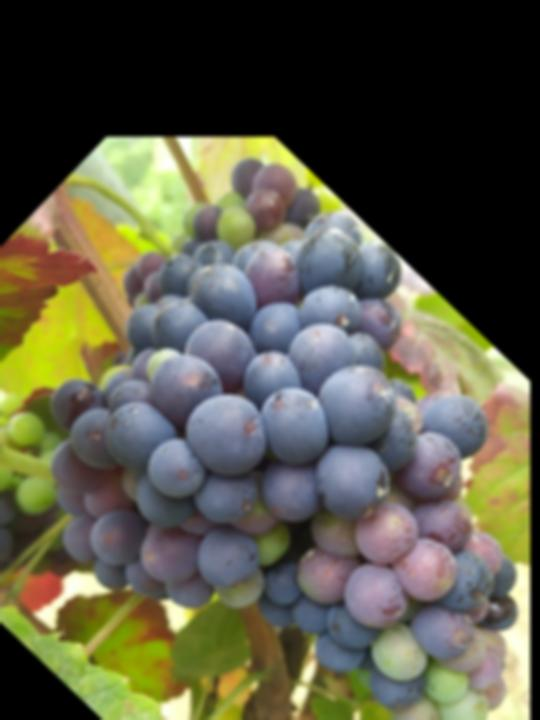grape: (0, 146, 540, 720)
